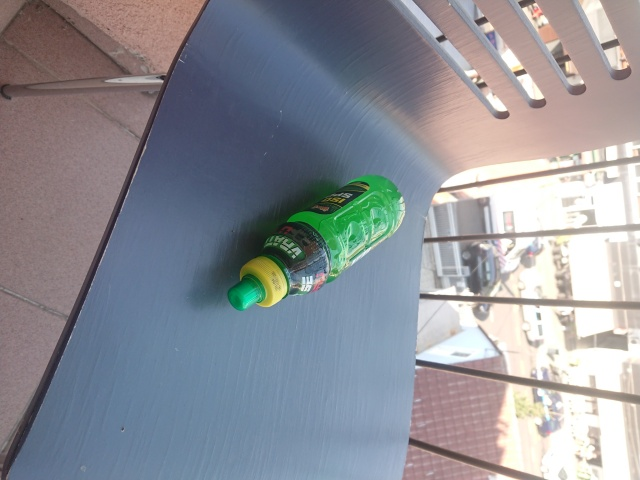Vindi Iso Sport Lemon-Grapefruit 500mL: (224, 172, 409, 314)
